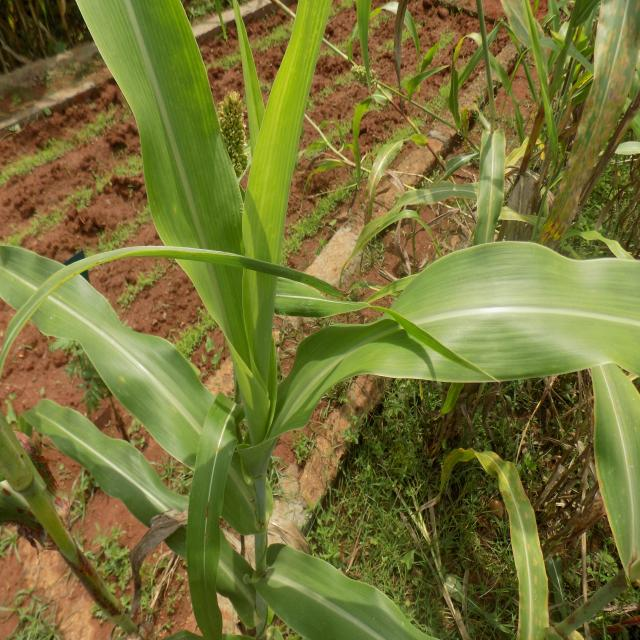millet_healthy: (77, 0, 265, 399), (0, 242, 255, 530), (278, 245, 640, 432), (244, 0, 336, 399), (260, 543, 430, 640), (190, 382, 239, 640), (591, 369, 640, 578), (362, 126, 421, 219), (477, 118, 509, 238)
millet_rust: (553, 2, 640, 237), (448, 449, 554, 640)
